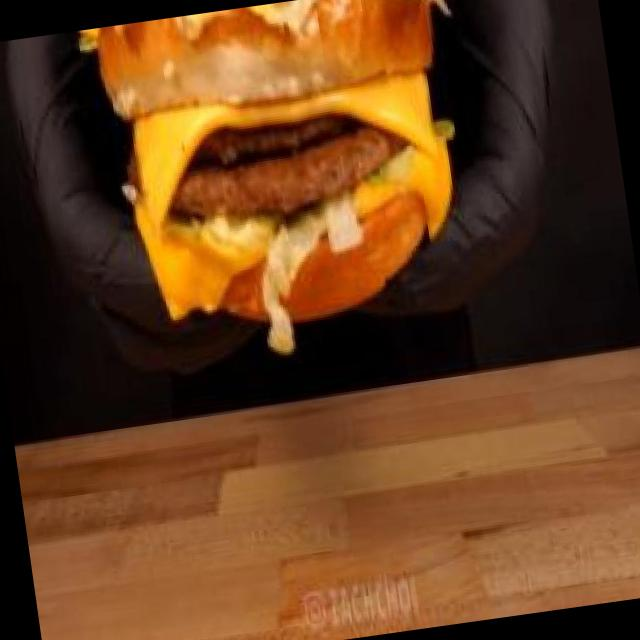burger: (77, 0, 504, 392)
